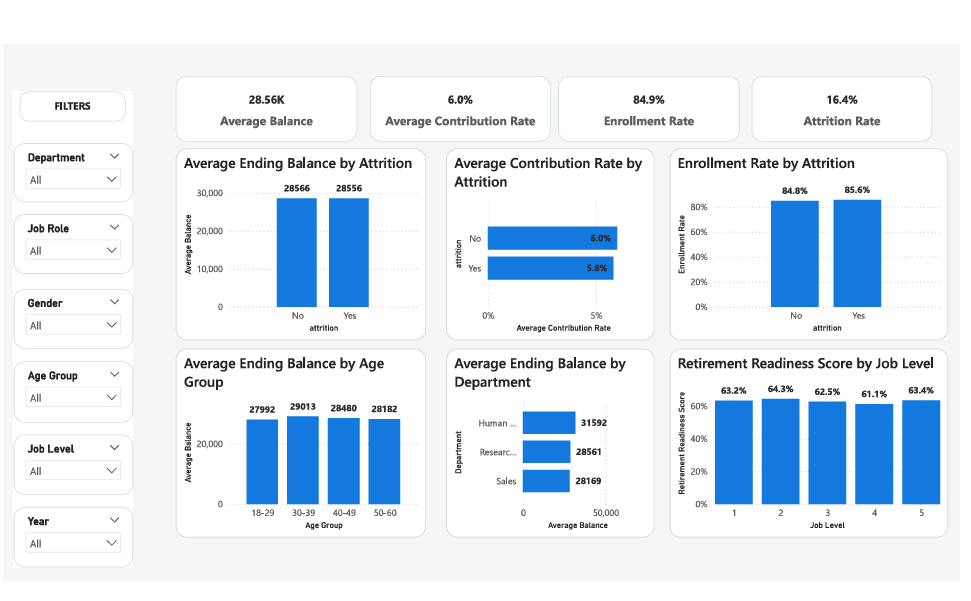

The page's visual inventory and layout, read from the dashboard file:
{"tool":"powerbi","page":{"name":"Attrition & Retirement Readiness","canvas":[1280,720],"ordinal":4},"visuals":[{"type":"card","fields":{"Values":["fact_balance_monthly.Average Balance"]},"box":[230.4,41.6,242.1,88.5],"z":0},{"type":"card","fields":{"Values":["fact_contribution_monthly.Average Contribution Rate"]},"box":[489.6,41.6,242.1,88.5],"z":1000},{"type":"textbox","box":[20.7,63.4,141.7,39.6],"z":1000,"group":"g1"},{"type":"card","fields":{"Values":["fact_contribution_monthly.Enrollment Rate"]},"box":[742.4,41.6,242.1,88.5],"z":2000},{"type":"card","fields":{"Values":["dim_employee.Attrition Rate"]},"box":[1000.5,41.6,242.1,88.5],"z":3000},{"type":"group","id":"g1","title":"Group 1","box":[12.8,63.4,160,637.4],"z":4000},{"type":"slicer","fields":{"Values":["dim_employee.department"]},"box":[12.8,132.4,160,79.2],"z":5000,"group":"g1"},{"type":"clusteredColumnChart","title":"Average Ending Balance by Attrition","fields":{"Category":["dim_employee.attrition"],"Y":["fact_balance_monthly.Average Balance"]},"box":[230.4,138.7,334.9,257.1],"z":5000},{"type":"barChart","title":"Average Contribution Rate by Attrition","fields":{"Category":["dim_employee.attrition"],"Y":["fact_contribution_monthly.Average Contribution Rate"]},"box":[592,138.7,279.5,257.1],"z":6000},{"type":"columnChart","title":"Enrollment Rate by Attrition","fields":{"Category":["dim_employee.attrition"],"Y":["fact_contribution_monthly.Enrollment Rate"]},"box":[890.7,138.7,373.3,257.1],"z":7000},{"type":"slicer","fields":{"Values":["dim_employee.gender"]},"box":[12.8,327.3,160,80.2],"z":7000,"group":"g1"},{"type":"columnChart","title":"Average Ending Balance by Age Group","fields":{"Category":["dim_employee.Age Group"],"Y":["fact_balance_monthly.Average Balance"]},"box":[230.4,407.5,334.9,252.8],"z":8000},{"type":"slicer","fields":{"Values":["dim_employee.job_role"]},"box":[12.8,227.8,160,79.2],"z":9000,"group":"g1"},{"type":"barChart","title":"Average Ending Balance by Department","fields":{"Category":["dim_employee.Department"],"Y":["fact_balance_monthly.Average Balance"]},"box":[592,407.5,279.5,252.8],"z":9000},{"type":"columnChart","title":"Retirement Readiness Score by Job Level","fields":{"Y":["fact_balance_monthly.Retirement Readiness Score"],"Category":["dim_employee.Job Level"]},"box":[890.7,407.5,373.3,252.8],"z":10000},{"type":"slicer","fields":{"Values":["dim_employee.Age Group"]},"box":[12.8,424.7,160,81.2],"z":12000,"group":"g1"},{"type":"slicer","fields":{"Values":["dim_employee.Job Level"]},"box":[12.8,522.2,160,81.2],"z":13000,"group":"g1"},{"type":"slicer","fields":{"Values":["dim_date.year_num"]},"box":[12.8,619.6,160,81.2],"z":14000,"group":"g1"}]}

Visuals, with their boxes on the page's 1280x720 design canvas (x1, y1, x2, y2). These are canvas units, not pixel positions in the 971x601 screenshot, which may show the page scaled, cropped or inside an application window:
card - fact_balance_monthly.Average Balance: (x1=230, y1=42, x2=472, y2=130)
card - fact_contribution_monthly.Average Contribution Rate: (x1=490, y1=42, x2=732, y2=130)
textbox: (x1=21, y1=63, x2=162, y2=103)
card - fact_contribution_monthly.Enrollment Rate: (x1=742, y1=42, x2=984, y2=130)
card - dim_employee.Attrition Rate: (x1=1000, y1=42, x2=1243, y2=130)
"Group 1" group: (x1=13, y1=63, x2=173, y2=701)
slicer - dim_employee.department: (x1=13, y1=132, x2=173, y2=212)
"Average Ending Balance by Attrition" clusteredColumnChart: (x1=230, y1=139, x2=565, y2=396)
"Average Contribution Rate by Attrition" barChart: (x1=592, y1=139, x2=872, y2=396)
"Enrollment Rate by Attrition" columnChart: (x1=891, y1=139, x2=1264, y2=396)
slicer - dim_employee.gender: (x1=13, y1=327, x2=173, y2=408)
"Average Ending Balance by Age Group" columnChart: (x1=230, y1=408, x2=565, y2=660)
slicer - dim_employee.job_role: (x1=13, y1=228, x2=173, y2=307)
"Average Ending Balance by Department" barChart: (x1=592, y1=408, x2=872, y2=660)
"Retirement Readiness Score by Job Level" columnChart: (x1=891, y1=408, x2=1264, y2=660)
slicer - dim_employee.Age Group: (x1=13, y1=425, x2=173, y2=506)
slicer - dim_employee.Job Level: (x1=13, y1=522, x2=173, y2=603)
slicer - dim_date.year_num: (x1=13, y1=620, x2=173, y2=701)
